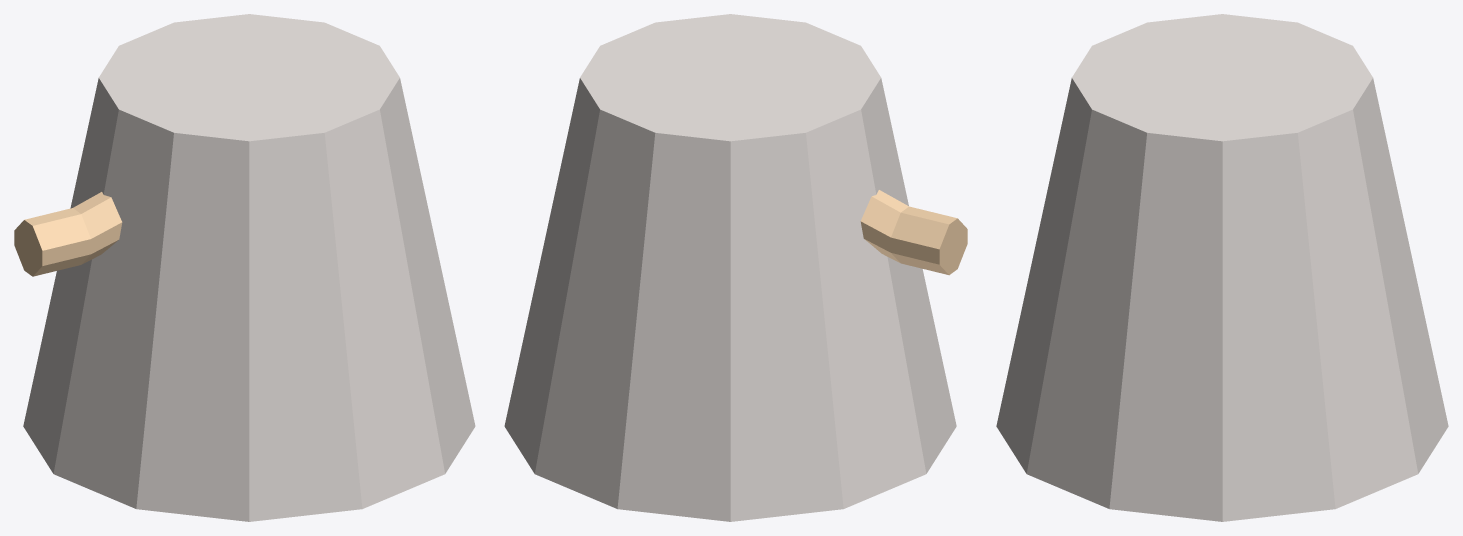
Rendered from Light_Lv2_1.fbx.
3 renders of one model, left to right at view 1: azimuth 30°, elevation 25°; view 2: azimuth 150°, elevation 25°; view 3: azimuth 270°, elevation 25°, orthographic.
Visible parts, largest first — view 1: Room_Lv2_1_Light; view 2: Room_Lv2_1_Light; view 3: Room_Lv2_1_Light.
Part boxes in pixels (left/top/right/bottom): Room_Lv2_1_Light: left=14, top=14, right=475, bottom=521; Room_Lv2_1_Light: left=504, top=14, right=967, bottom=521; Room_Lv2_1_Light: left=996, top=14, right=1448, bottom=521.
Size of the model in its own units: 2.13 by 2.04 by 2.
